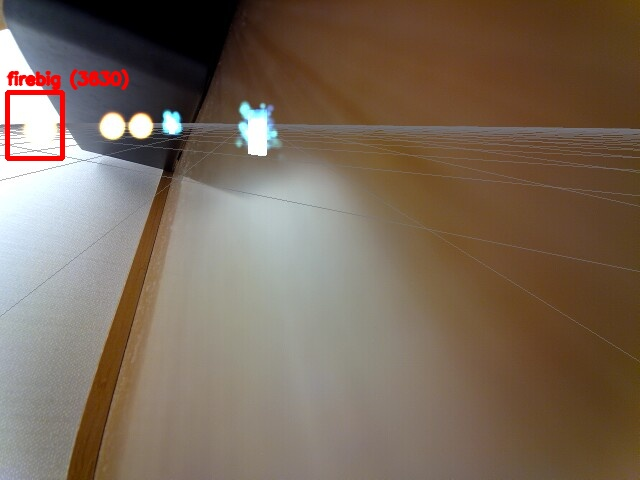firebig: (7, 92, 62, 158)
